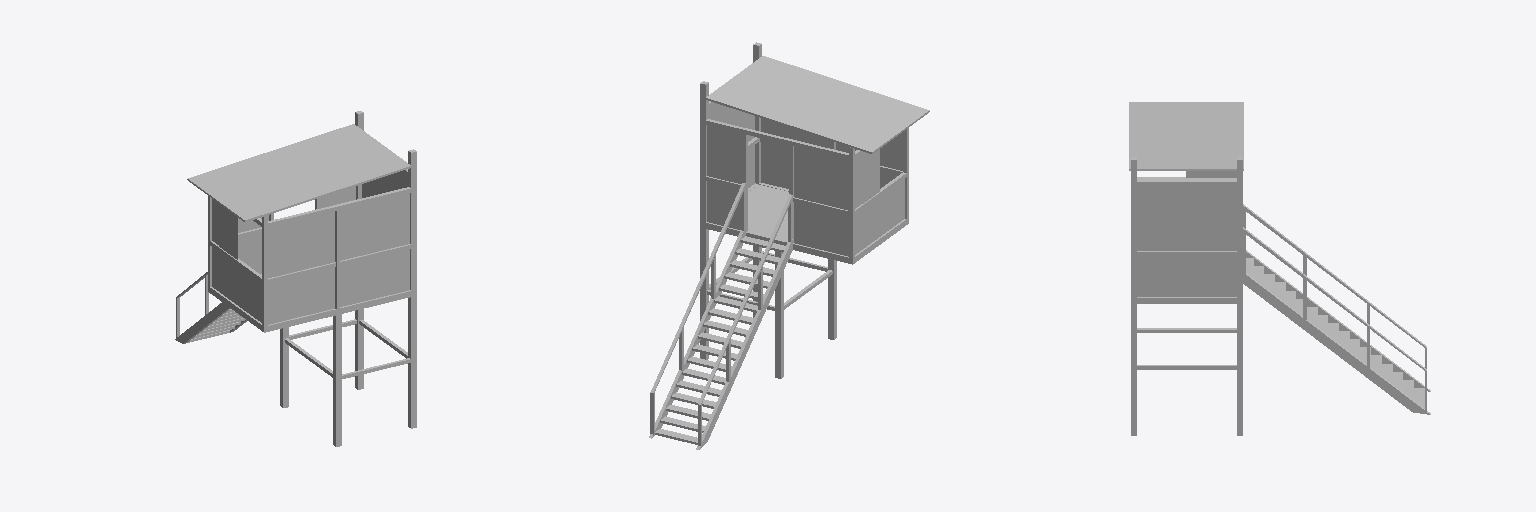
File: Cabin-E-01.obj
The picture shows the model from 3 angles: view 1: azimuth 30°, elevation 25°; view 2: azimuth 150°, elevation 25°; view 3: azimuth 270°, elevation 25°; orthographic projection.
Parts seen in each view (by area): view 1: Cabin-E_Cabin-E.001; view 2: Cabin-E_Cabin-E.001; view 3: Cabin-E_Cabin-E.001.
Boxes of the visible parts, x1,y1,x2,y2 form: Cabin-E_Cabin-E.001: [175, 111, 416, 446]; Cabin-E_Cabin-E.001: [649, 42, 929, 449]; Cabin-E_Cabin-E.001: [1129, 102, 1430, 435].
Size of the model in its own units: 4.61 by 7.03 by 6.96.